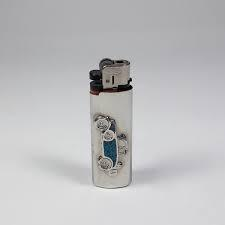lighter: (89, 57, 135, 190)
